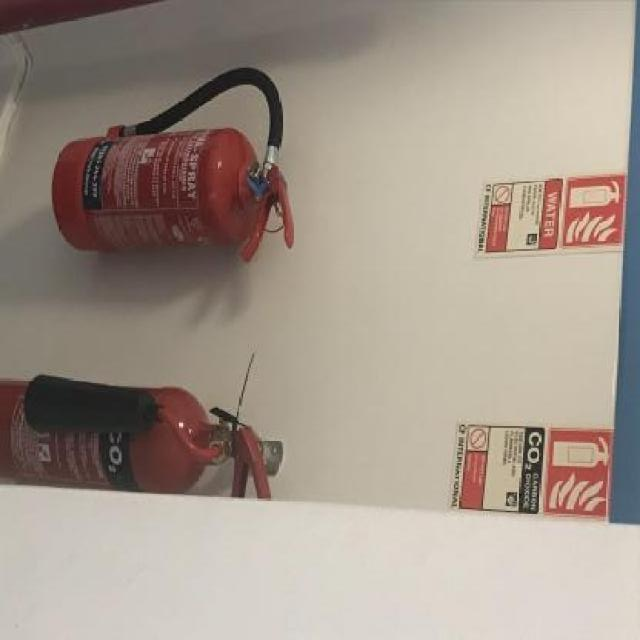fire extinguisher: (52, 69, 294, 260), (0, 376, 273, 503)
